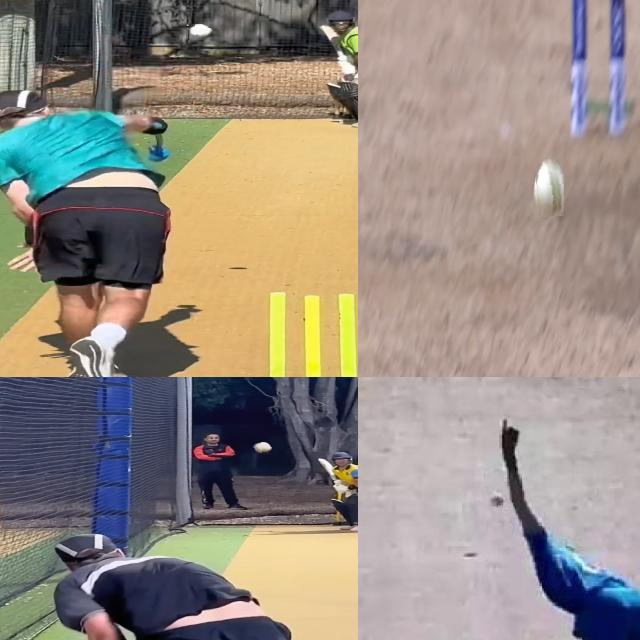Cricket ball: (534, 159, 564, 217), (186, 24, 213, 40), (488, 492, 505, 509), (252, 442, 272, 454)
